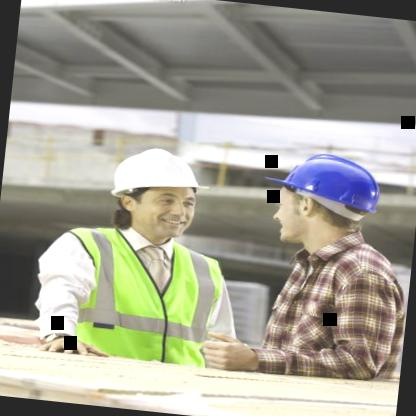helmet: (260, 142, 392, 257), (95, 138, 214, 242)
